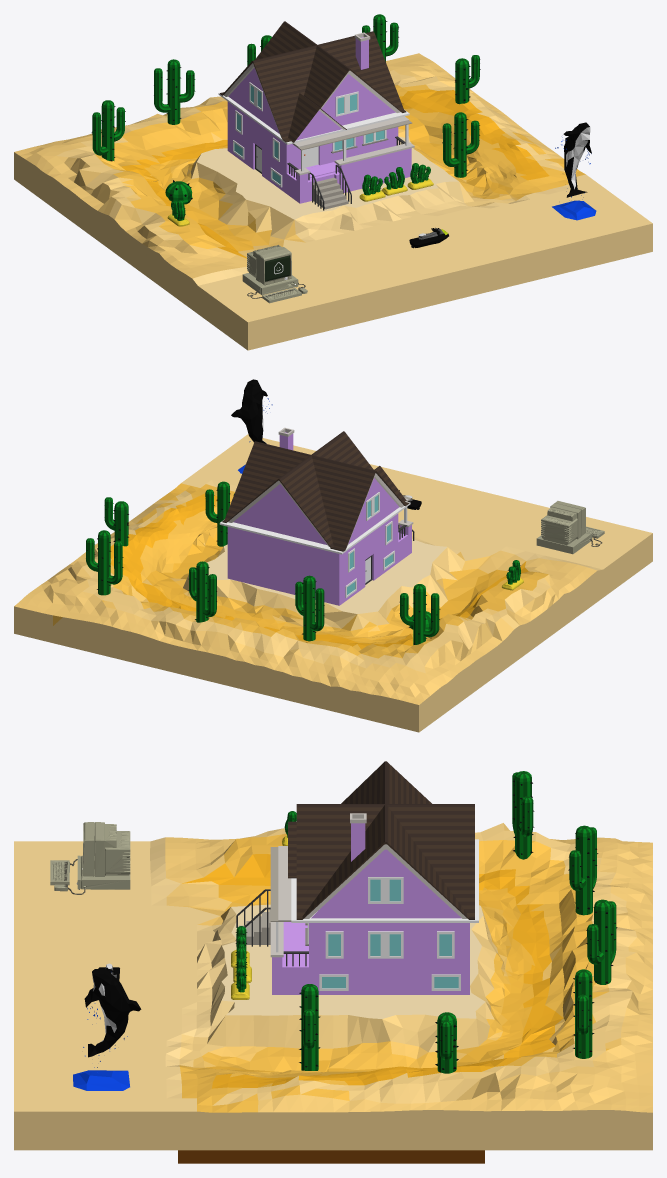
3 views of the same model, one above another, from view 1: azimuth 30°, elevation 25°; view 2: azimuth 150°, elevation 25°; view 3: azimuth 270°, elevation 25° (orthographic). The views are drawn at different scales.
Visible parts, largest first — view 1: Cube.001, Cube.391, OBJRANDOM_RETRO_PC, ANIMAL_ORCA, Cylinder.044, Cylinder.037, Cylinder.045, Cylinder.038, Cylinder.042, Cylinder.041, Cylinder.039, Sphere.023 (+1 smaller); view 2: Cube.001, Cube.391, OBJRANDOM_RETRO_PC, Cylinder.042, Cylinder.045, Cylinder.044, Cylinder.043, ANIMAL_ORCA, Cylinder.037, Cylinder.038; view 3: Cube.001, Cube.391, UNDERGROUND_ART_PIECE_VAN_GOGH, OBJRANDOM_RETRO_PC, ANIMAL_ORCA, Cylinder.043, Cylinder.044, Cylinder.045, Cylinder.042, Cylinder.037, Cylinder.038, Cylinder.041.
Part boxes in pixels (bbox=[...]): Cube.001: bbox=[14, 53, 652, 350]; Cube.391: bbox=[218, 21, 414, 210]; OBJRANDOM_RETRO_PC: bbox=[242, 245, 307, 303]; ANIMAL_ORCA: bbox=[552, 122, 596, 220]; Cylinder.044: bbox=[154, 59, 195, 124]; Cylinder.037: bbox=[442, 112, 479, 177]; Cylinder.045: bbox=[91, 100, 125, 161]; Cylinder.038: bbox=[455, 55, 480, 104]; Cylinder.042: bbox=[362, 14, 398, 61]; Cylinder.041: bbox=[407, 163, 433, 189]; Cylinder.039: bbox=[359, 174, 385, 201]; Sphere.023: bbox=[165, 180, 192, 204]; Cube.001: bbox=[14, 434, 652, 732]; Cube.391: bbox=[219, 427, 414, 605]; OBJRANDOM_RETRO_PC: bbox=[536, 501, 604, 554]; Cylinder.042: bbox=[86, 530, 123, 595]; Cylinder.045: bbox=[399, 584, 440, 644]; Cylinder.044: bbox=[295, 575, 324, 641]; Cylinder.043: bbox=[188, 561, 216, 622]; ANIMAL_ORCA: bbox=[231, 379, 272, 473]; Cylinder.037: bbox=[205, 481, 234, 546]; Cylinder.038: bbox=[104, 497, 128, 546]; Cube.001: bbox=[14, 823, 652, 1150]; Cube.391: bbox=[236, 761, 478, 994]; UNDERGROUND_ART_PIECE_VAN_GOGH: bbox=[178, 1150, 484, 1163]; OBJRANDOM_RETRO_PC: bbox=[50, 822, 130, 894]; ANIMAL_ORCA: bbox=[73, 967, 141, 1090]; Cylinder.043: bbox=[586, 899, 617, 984]; Cylinder.044: bbox=[568, 825, 598, 915]; Cylinder.045: bbox=[512, 771, 534, 859]; Cylinder.042: bbox=[573, 969, 594, 1058]; Cylinder.037: bbox=[299, 984, 320, 1070]; Cylinder.038: bbox=[435, 1012, 458, 1073]; Cylinder.041: bbox=[231, 958, 249, 999].
Bounding box in the file's own units: 4002 × 1752 × 4001.
Materials: 28 (3 with a texture image).
